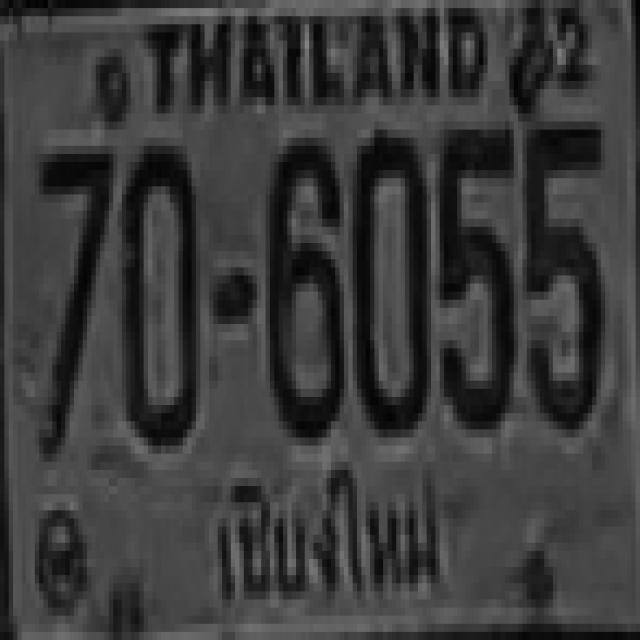0: (117, 142, 196, 441), (348, 130, 427, 429)
5: (522, 114, 601, 422), (436, 122, 510, 421)
6: (266, 130, 340, 438)
7: (35, 142, 109, 450)
ChiangMai: (203, 447, 452, 626)
